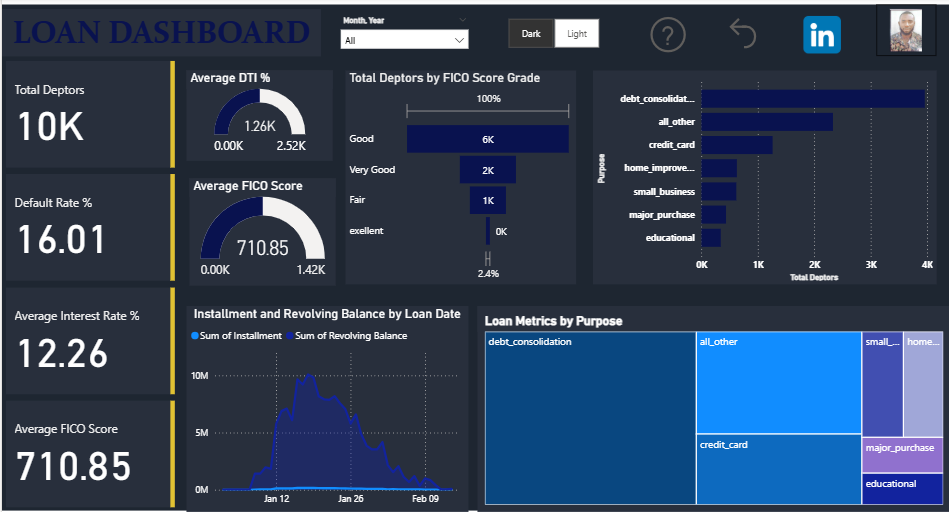

The dashboard page shown, as its layout file describes it:
{"tool":"powerbi","page":{"name":"Page 2","canvas":[1280,720],"ordinal":1},"visuals":[{"type":"shape","box":[0,11.1,1280.6,683.3],"z":0},{"type":"textbox","box":[0,16.7,430.6,63.9],"z":1000},{"type":"cardVisual","fields":{"Data":["Calculations.Total Deptors","Calculations.Default Rate %","Calculations.Average Interest Rate %","Calculations.Average FICO Score"]},"box":[0,80.6,238.9,613.9],"z":2000},{"type":"gauge","fields":{"Y":["Calculations.Average DTI %"]},"box":[250,100,197.2,122.2],"z":3000},{"type":"gauge","fields":{"Y":["Calculations.Average FICO Score"]},"box":[252.8,244.4,197.2,144.4],"z":4000},{"type":"treemap","title":"Loan Metrics by Purpose","fields":{"Group":["loan_data.Purpose"],"Values":["Sum(loan_data.dti)"]},"box":[641.7,416.7,638.9,277.8],"z":5000},{"type":"barChart","title":"Loans Purpose","fields":{"Category":["loan_data.Purpose"],"Y":["Calculations.Total Loans"]},"box":[797.2,100,463.9,288.9],"z":6000},{"type":"areaChart","title":"Installment and Revolving Balance by Loan Date","fields":{"Category":["loan_data.Loan Date"],"Y":["Sum(loan_data.Installment)","Sum(loan_data.Revolving Balance)"]},"box":[250,416.7,380.6,277.8],"z":7000},{"type":"funnel","fields":{"Category":["loan_data.FICO Score Grade"],"Y":["Calculations.Total Deptors"]},"box":[463.9,100,311.1,288.9],"z":8000},{"type":"slicer","fields":{"Values":["Calendar.Month","Calendar.Year"]},"box":[447.2,19.4,191.7,55.6],"z":9000},{"type":"actionButton","box":[869.4,19.4,63.9,61.1],"z":10000},{"type":"image","box":[1072.2,19.4,72.2,61.1],"z":11000},{"type":"image","box":[1180.6,11.1,80.6,69.4],"z":12000},{"type":"actionButton","box":[975,22.2,55.6,52.8],"z":13000},{"type":"slicer","fields":{"Values":["Table.Mode"]},"box":[658.3,22.2,172.2,52.8],"z":14000}]}

Visuals, with their boxes on the page's 1280x720 design canvas (x1, y1, x2, y2). These are canvas units, not pixel positions in the 949x512 screenshot, which may show the page scaled, cropped or inside an application window:
shape: [x1=0, y1=11, x2=1281, y2=694]
textbox: [x1=0, y1=17, x2=431, y2=81]
cardVisual - Calculations.Total Deptors x Calculations.Default Rate %: [x1=0, y1=81, x2=239, y2=694]
gauge - Calculations.Average DTI %: [x1=250, y1=100, x2=447, y2=222]
gauge - Calculations.Average FICO Score: [x1=253, y1=244, x2=450, y2=389]
"Loan Metrics by Purpose" treemap: [x1=642, y1=417, x2=1281, y2=694]
"Loans Purpose" barChart: [x1=797, y1=100, x2=1261, y2=389]
"Installment and Revolving Balance by Loan Date" areaChart: [x1=250, y1=417, x2=631, y2=694]
funnel - loan_data.FICO Score Grade x Calculations.Total Deptors: [x1=464, y1=100, x2=775, y2=389]
slicer - Calendar.Month x Calendar.Year: [x1=447, y1=19, x2=639, y2=75]
actionButton: [x1=869, y1=19, x2=933, y2=80]
image: [x1=1072, y1=19, x2=1144, y2=80]
image: [x1=1181, y1=11, x2=1261, y2=80]
actionButton: [x1=975, y1=22, x2=1031, y2=75]
slicer - Table.Mode: [x1=658, y1=22, x2=830, y2=75]
